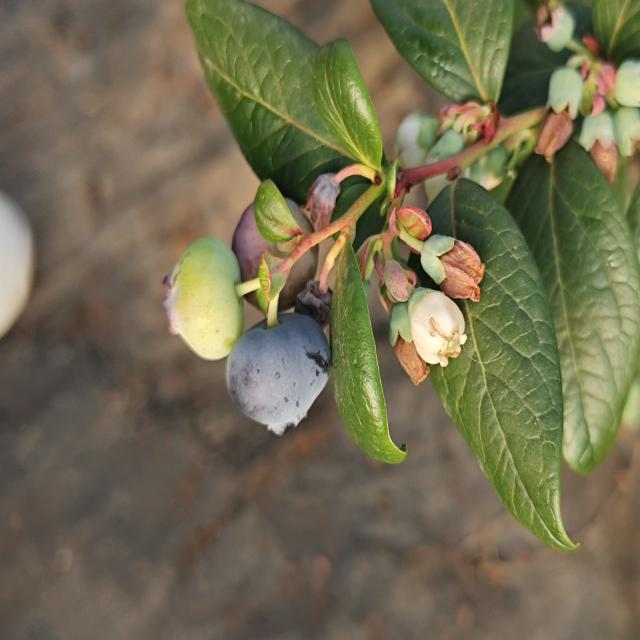ripe: (224, 310, 334, 439)
